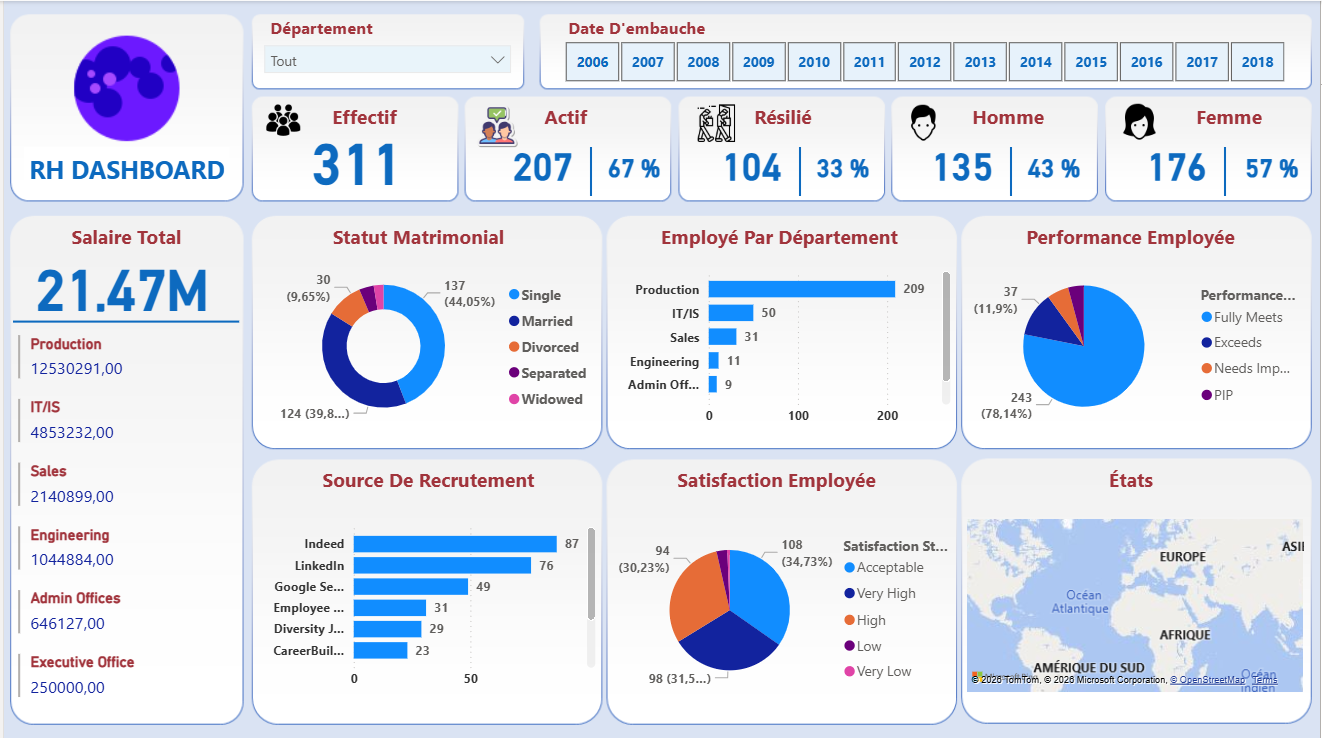

The page's visual inventory and layout, read from the dashboard file:
{"tool":"powerbi","page":{"name":"RH DASHBOARD","canvas":[1280,720],"ordinal":0},"visuals":[{"type":"image","box":[37,18.5,165.3,133.3],"z":0},{"type":"card","fields":{"Values":["All measures.Active"]},"box":[479.5,132.3,88.5,52.5],"z":0,"group":"g1"},{"type":"card","fields":{"Values":["All measures.Terminated"]},"box":[682.8,132.3,88.5,52.5],"z":0,"group":"g2"},{"type":"card","fields":{"Values":["All measures.Male"]},"box":[888,132.3,88.5,52.5],"z":0,"group":"g3"},{"type":"card","fields":{"Values":["All measures.Female"]},"box":[1096.2,132.3,88.5,52.5],"z":0,"group":"g4"},{"type":"textbox","box":[19.5,142,200.4,42.8],"z":1000},{"type":"shape","box":[560.2,142,21.4,47.7],"z":1000,"group":"g1"},{"type":"shape","box":[763.5,142,21.4,47.7],"z":1000,"group":"g2"},{"type":"shape","box":[968.7,142,21.4,47.7],"z":1000,"group":"g3"},{"type":"shape","box":[1176.9,142,21.4,47.7],"z":1000,"group":"g4"},{"type":"card","fields":{"Values":["All measures.Active %"]},"box":[581.6,140.1,62.2,42.8],"z":2000,"group":"g1"},{"type":"card","fields":{"Values":["All measures.Terminated %"]},"box":[784.9,140.1,62.2,42.8],"z":2000,"group":"g2"},{"type":"card","fields":{"Values":["All measures.Male %"]},"box":[990.1,140.1,62.2,42.8],"z":2000,"group":"g3"},{"type":"card","fields":{"Values":["All measures.Female %"]},"box":[1198.2,140.8,69.1,41.8],"z":2000,"group":"g4"},{"type":"shape","box":[9,288.1,220.3,47.9],"z":2000},{"type":"slicer","fields":{"Values":["HRData.Department"]},"box":[243.2,33.1,259.7,44.7],"z":3000},{"type":"slicer","fields":{"Values":["HRData.Hiring Year"]},"box":[520.4,33.1,748.9,51.6],"z":4000},{"type":"textbox","box":[253.9,9.7,119.6,38.9],"z":5000},{"type":"textbox","box":[543.7,9.7,235.4,31.1],"z":6000},{"type":"textbox","box":[314.2,94.3,99.2,35],"z":7000},{"type":"image","box":[243.2,94.3,56.4,42.8],"z":8000},{"type":"textbox","box":[520.4,94.3,80.7,35],"z":9000},{"type":"image","box":[447.4,94.3,64.2,54.5],"z":10000},{"type":"textbox","box":[724.6,94.3,80.7,35],"z":11000},{"type":"image","box":[661.4,94.3,63.2,48.6],"z":12000},{"type":"textbox","box":[936.7,94.3,80.7,35],"z":13000},{"type":"textbox","box":[1154.5,94.3,80.7,35],"z":14000},{"type":"image","box":[862.7,94.3,63.2,47.7],"z":15000},{"type":"image","box":[1072.8,93.4,63.2,47.7],"z":16000},{"type":"textbox","box":[314.2,211.1,178,38.9],"z":17000},{"type":"textbox","box":[627.4,211.1,253.9,38.9],"z":18000},{"type":"textbox","box":[977.5,211.1,236.4,38.9],"z":19000},{"type":"textbox","box":[286,447.4,253.9,38.9],"z":20000},{"type":"textbox","box":[640,447.4,222.7,38.9],"z":21000},{"type":"textbox","box":[1052.4,447.4,87.5,38.9],"z":22000},{"type":"textbox","box":[50.6,211.1,137.1,38.9],"z":23000},{"type":"card","fields":{"Values":["All measures.Headcount"]},"box":[283,118.7,120.6,66.1],"z":24000},{"type":"group","id":"g1","title":"Groupe 1","box":[479.5,132.3,164.4,57.4],"z":25000},{"type":"group","id":"g2","title":"Groupe 1","box":[682.8,132.3,164.4,57.4],"z":26000},{"type":"group","id":"g3","title":"Groupe 1","box":[888,132.3,164.4,57.4],"z":27000},{"type":"group","id":"g4","title":"Groupe 1","box":[1096.2,132.3,171,57.4],"z":28000},{"type":"donutChart","fields":{"Y":["All measures.Headcount"],"Category":["HRData.MaritalStatus"]},"box":[243.2,250.2,337.9,171.5],"z":29000},{"type":"clusteredBarChart","fields":{"Category":["HRData.Department"],"Y":["All measures.Headcount"]},"box":[588.2,250.2,336.9,171.5],"z":30000},{"type":"pieChart","fields":{"Y":["All measures.Headcount"],"Category":["HRData.PerformanceScore"]},"box":[932.1,250.2,335,171.5],"z":31000},{"type":"clusteredBarChart","fields":{"Y":["All measures.Headcount"],"Category":["HRData.RecruitmentSource"]},"box":[243.2,499.4,336.9,178.4],"z":32000},{"type":"pieChart","fields":{"Y":["All measures.Headcount"],"Category":["HRData.Satisfaction Status"]},"box":[590.2,506.4,335,171.5],"z":33000},{"type":"map","fields":{"Series":["HRData.State"],"Size":["All measures.Headcount"]},"box":[932.1,499.4,336.9,178.4],"z":34000},{"type":"card","fields":{"Values":["All measures.Total Salary"]},"box":[10,241.2,210.3,65.8],"z":35000},{"type":"multiRowCard","fields":{"Values":["All measures.Total Salary","HRData.Department"]},"box":[9,320,220.3,382.8],"z":36000}]}

Visuals, with their boxes in screenshot pixels (x1, y1, x2, y2), scaled from the page's 1280x720 canvas onto the 1322x738 screenshot:
image: 38,19,209,156
card - All measures.Active: 495,136,587,189
card - All measures.Terminated: 705,136,797,189
card - All measures.Male: 917,136,1009,189
card - All measures.Female: 1132,136,1224,189
textbox: 20,146,227,189
shape: 579,146,601,194
shape: 789,146,811,194
shape: 1000,146,1023,194
shape: 1216,146,1238,194
card - All measures.Active %: 601,144,665,187
card - All measures.Terminated %: 811,144,875,187
card - All measures.Male %: 1023,144,1087,187
card - All measures.Female %: 1238,144,1309,187
shape: 9,295,237,344
slicer - HRData.Department: 251,34,519,80
slicer - HRData.Hiring Year: 537,34,1311,87
textbox: 262,10,386,50
textbox: 562,10,805,42
textbox: 325,97,427,133
image: 251,97,309,141
textbox: 537,97,621,133
image: 462,97,528,153
textbox: 748,97,832,133
image: 683,97,748,146
textbox: 967,97,1051,133
textbox: 1192,97,1276,133
image: 891,97,956,146
image: 1108,96,1173,145
textbox: 325,216,508,256
textbox: 648,216,910,256
textbox: 1010,216,1254,256
textbox: 295,459,558,498
textbox: 661,459,891,498
textbox: 1087,459,1177,498
textbox: 52,216,194,256
card - All measures.Headcount: 292,122,417,189
"Groupe 1" group: 495,136,665,194
"Groupe 1" group: 705,136,875,194
"Groupe 1" group: 917,136,1087,194
"Groupe 1" group: 1132,136,1309,194
donutChart - All measures.Headcount x HRData.MaritalStatus: 251,256,600,432
clusteredBarChart - HRData.Department x All measures.Headcount: 608,256,955,432
pieChart - All measures.Headcount x HRData.PerformanceScore: 963,256,1309,432
clusteredBarChart - All measures.Headcount x HRData.RecruitmentSource: 251,512,599,695
pieChart - All measures.Headcount x HRData.Satisfaction Status: 610,519,956,695
map - HRData.State x All measures.Headcount: 963,512,1311,695
card - All measures.Total Salary: 10,247,228,315
multiRowCard - All measures.Total Salary x HRData.Department: 9,328,237,720
